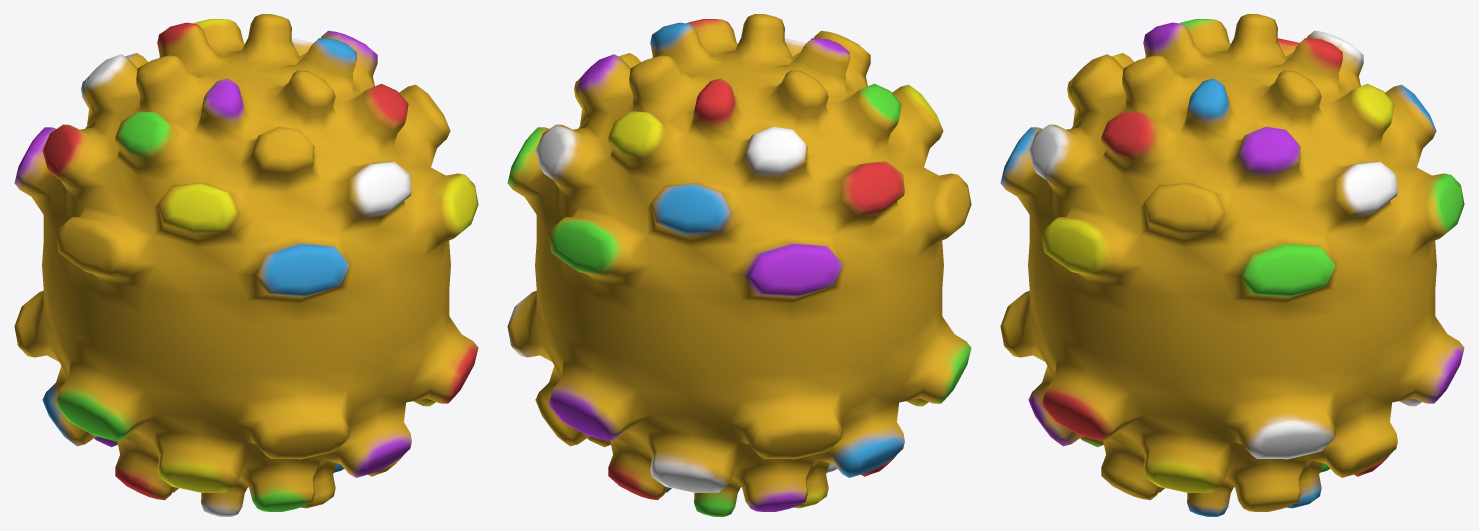
The model's file is Maya2.fbx.
3 views of the same model, side by side, from view 1: azimuth 30°, elevation 25°; view 2: azimuth 150°, elevation 25°; view 3: azimuth 270°, elevation 25° (orthographic).
Visible parts, largest first — view 1: Maya2:pSphere1_pSphere1; view 2: Maya2:pSphere1_pSphere1; view 3: Maya2:pSphere1_pSphere1.
Boxes of the visible parts, x1,y1,x2,y2 form: Maya2:pSphere1_pSphere1: [14, 14, 478, 516]; Maya2:pSphere1_pSphere1: [507, 14, 971, 516]; Maya2:pSphere1_pSphere1: [1000, 14, 1464, 516].
Bounding box in the file's own units: 2.17 × 2.24 × 2.17.
1 material, 1 textured.
